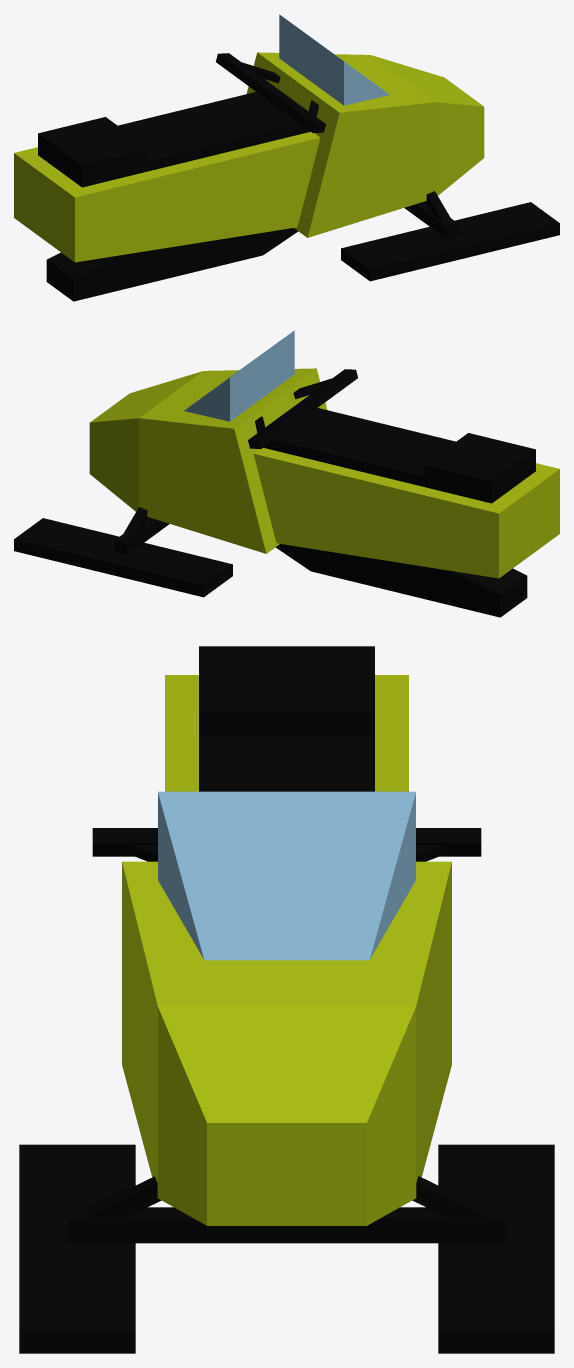
The model's file is Snowmobile_03.fbx.
3 renders of one model, top to bottom at view 1: azimuth 30°, elevation 25°; view 2: azimuth 150°, elevation 25°; view 3: azimuth 270°, elevation 25°, orthographic. The views are drawn at different scales.
Parts seen in each view (by area): view 1: Snowmobile_03; view 2: Snowmobile_03; view 3: Snowmobile_03.
Part boxes in pixels (x1=…): Snowmobile_03: x1=14, y1=14, x2=559, y2=301; Snowmobile_03: x1=14, y1=330, x2=559, y2=617; Snowmobile_03: x1=19, y1=646, x2=554, y2=1353.
Size of the model in its own units: 0.3526 by 0.1445 by 0.1821.
